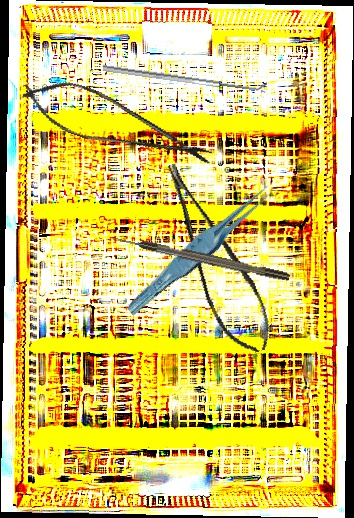Hook Surgical: (109, 232, 291, 283)
Micro Scissor: (160, 150, 280, 363), (11, 66, 223, 181)
Spatula Surgical: (102, 59, 268, 94)
Tissue Forceps: (117, 182, 284, 318)
